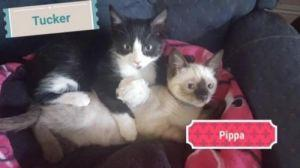siamese: (164, 46, 228, 113)
